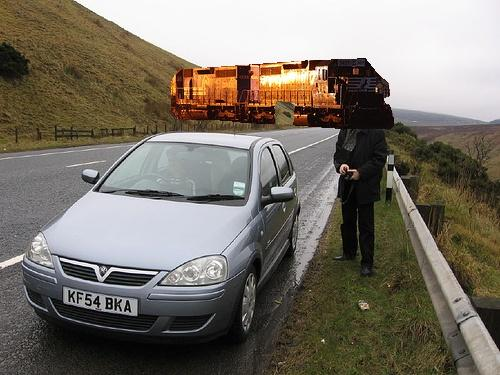tampered: (172, 59, 394, 129)
